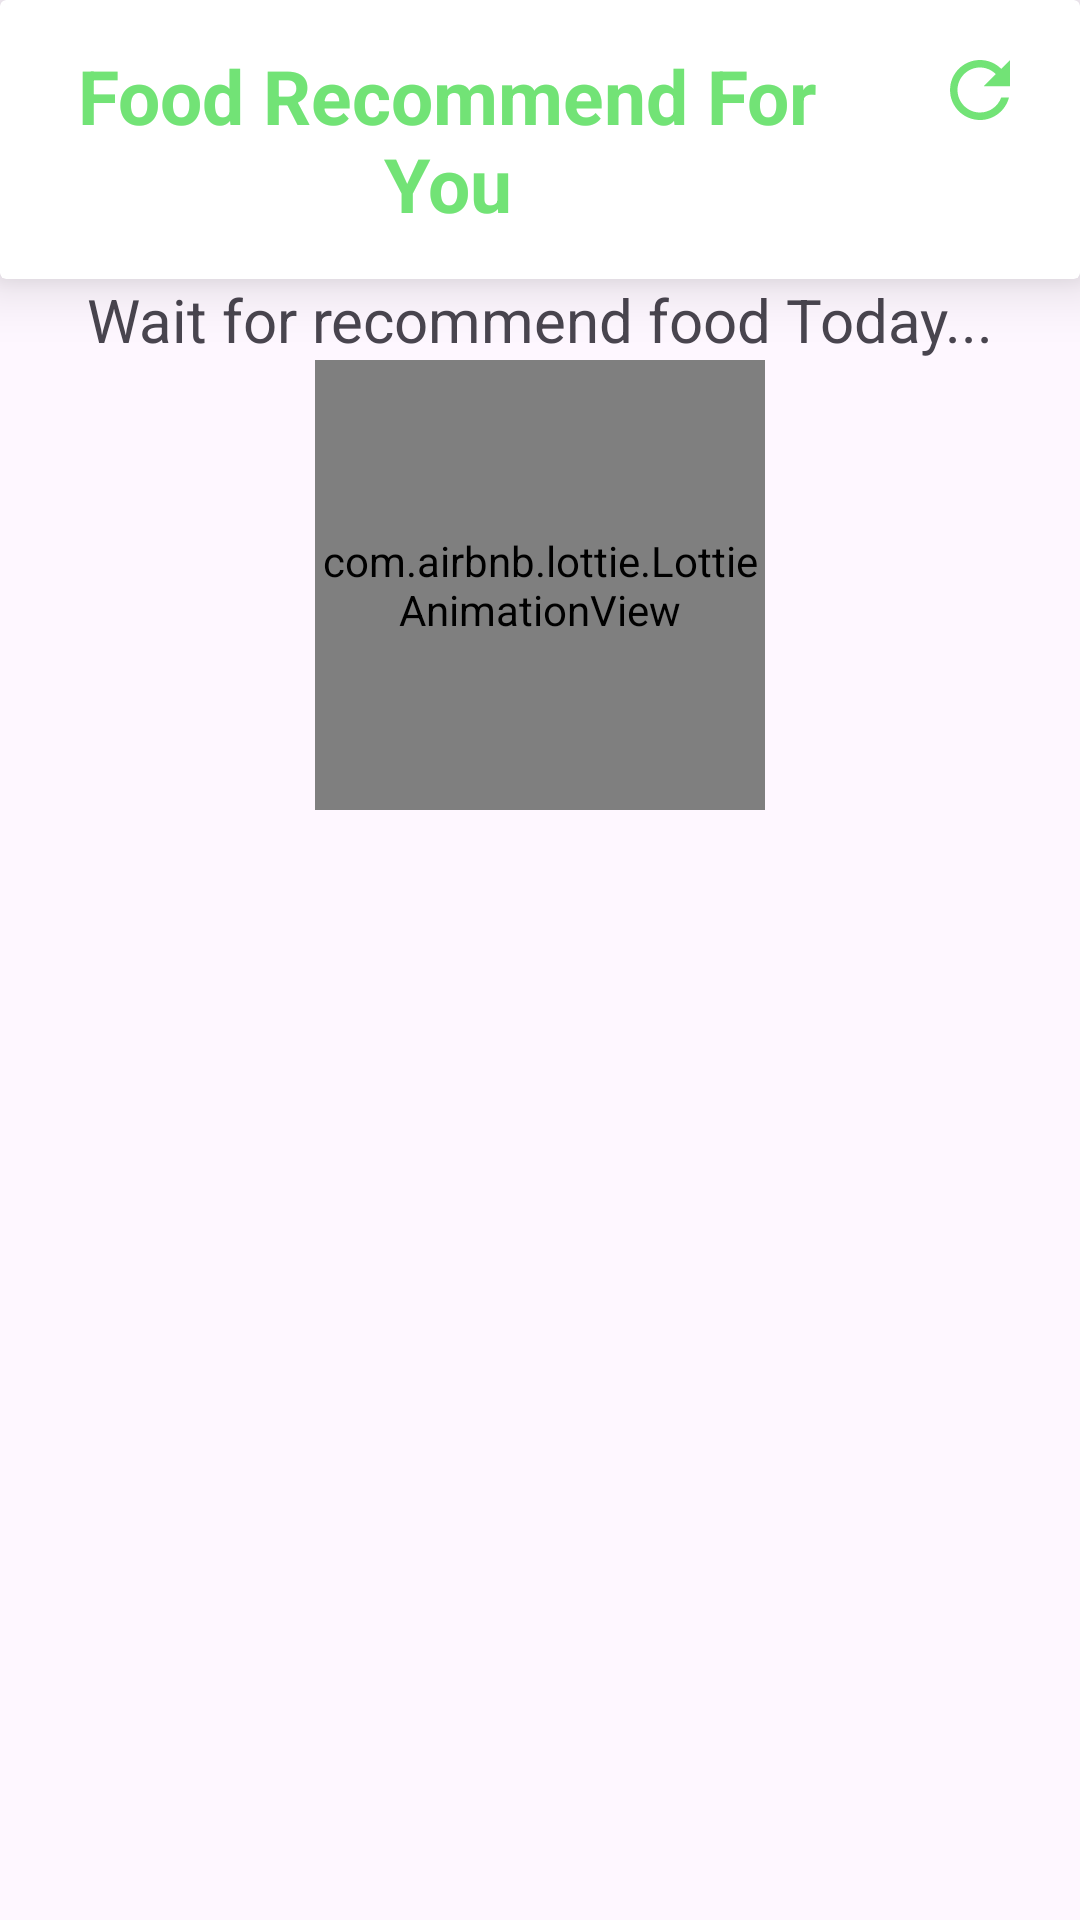

Named icons in this screenshot (1080px×1920px) and their centers, (x,y):
refresh: (980,90)
